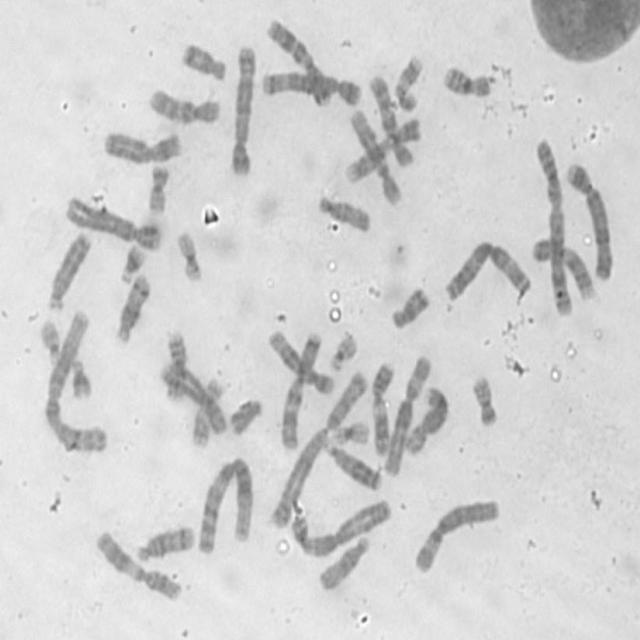A1: (41, 314, 109, 456), (194, 454, 253, 556)
A2: (274, 372, 367, 526), (532, 134, 575, 320)
A3: (441, 235, 533, 305), (291, 496, 394, 557)
B4: (563, 157, 616, 284), (62, 191, 165, 251)
B5: (258, 65, 364, 108), (228, 42, 257, 176)
C10: (367, 72, 416, 170), (146, 86, 220, 126)
C11: (92, 526, 183, 603), (368, 359, 395, 456)
C12: (347, 105, 402, 207), (264, 326, 336, 397)
C6: (411, 495, 502, 576), (381, 351, 433, 479)
C7: (264, 15, 332, 109), (276, 326, 325, 453)
C8: (156, 360, 226, 436), (401, 382, 450, 455)
C9: (342, 114, 424, 186), (529, 233, 598, 303)
D13: (45, 226, 92, 314), (321, 438, 384, 492)
D14: (113, 269, 152, 345), (133, 520, 196, 564)
D15: (315, 531, 371, 593), (316, 192, 372, 235)
E16: (440, 61, 493, 100), (162, 326, 188, 402)
E17: (188, 375, 224, 449), (392, 50, 425, 113)
E18: (389, 282, 431, 332), (179, 40, 227, 82)
F19: (175, 228, 204, 284), (329, 419, 372, 447)
F20: (469, 372, 500, 428), (145, 162, 172, 214)
G21: (117, 238, 148, 285), (67, 353, 94, 402)
G22: (328, 328, 358, 372), (38, 318, 64, 366)
X: (101, 128, 182, 166)
Y: (227, 393, 264, 438)
